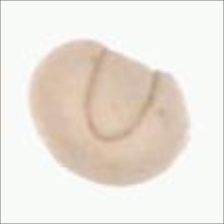L5: (83, 47, 161, 146)
L6: (25, 36, 192, 188)
